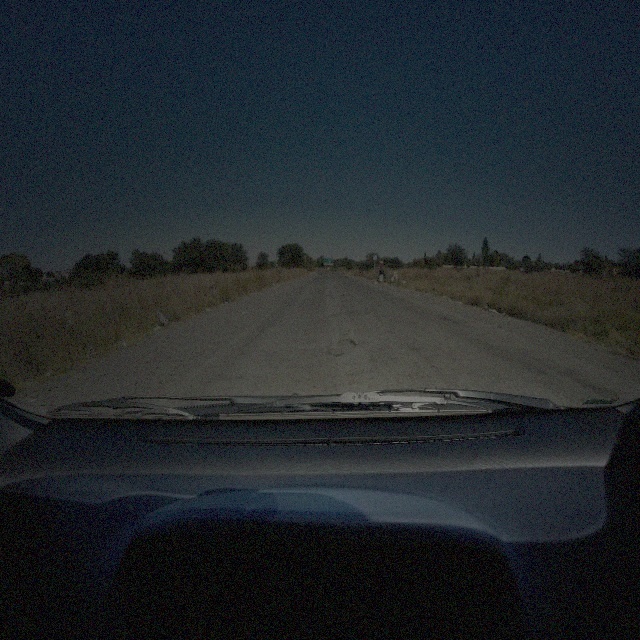pothole: (336, 336, 358, 353)
